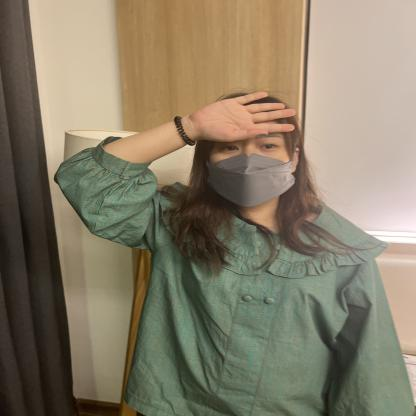Sick: (107, 15, 332, 166)
